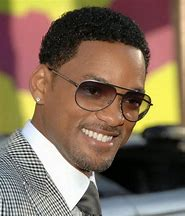person: (27, 5, 153, 173)
